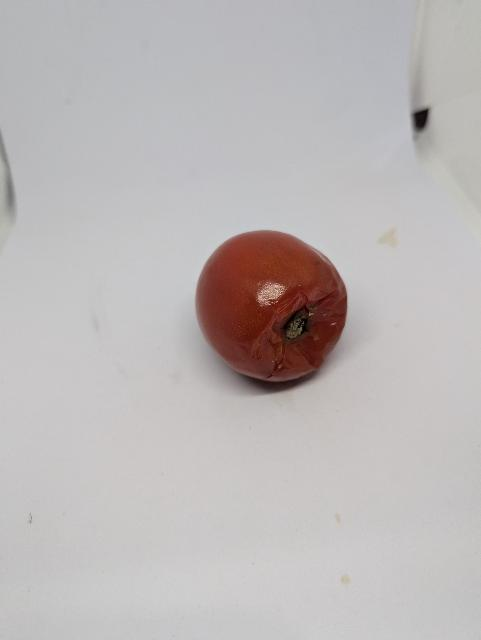defect: (192, 227, 350, 387)
